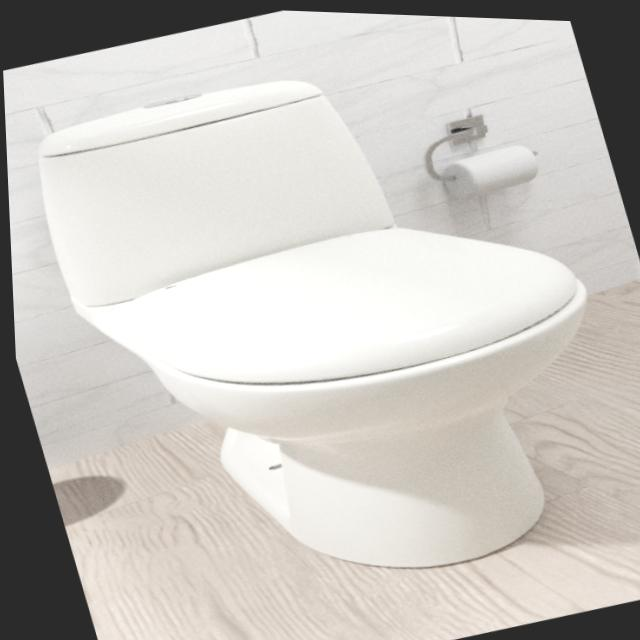toilet: (11, 7, 640, 640)
